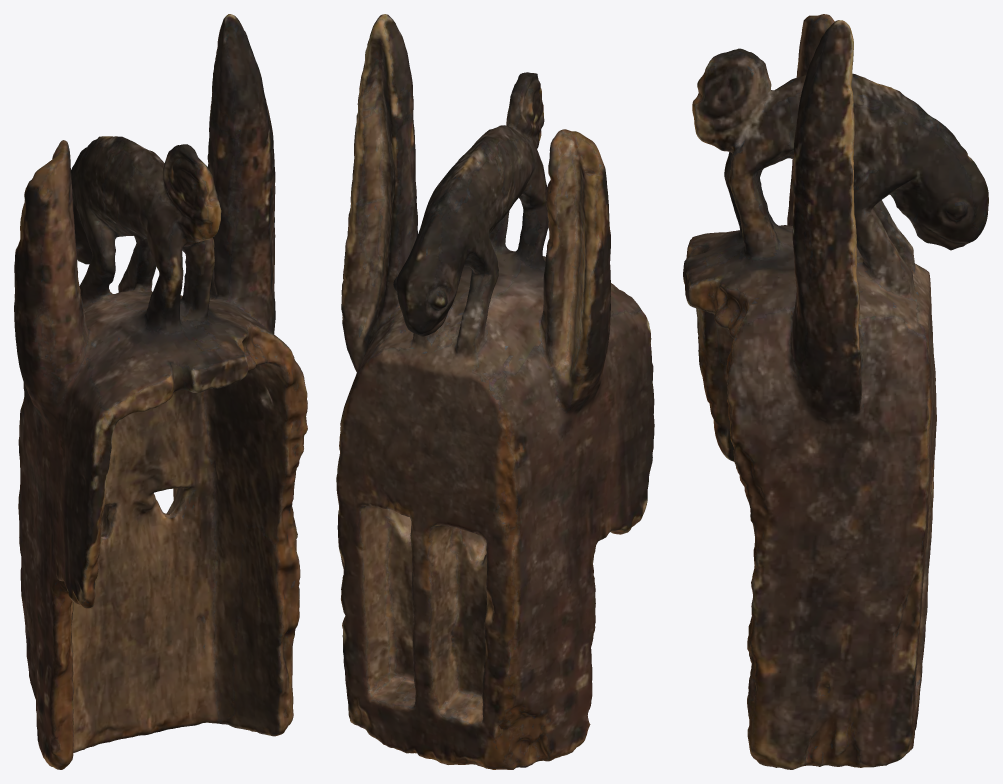
Rendered from preview.glb.
3 renders of one model, left to right at view 1: azimuth 30°, elevation 25°; view 2: azimuth 150°, elevation 25°; view 3: azimuth 270°, elevation 25°, orthographic. The views are drawn at different scales.
Visible parts, largest first — view 1: Object_2; view 2: Object_2; view 3: Object_2.
Part boxes in pixels (box(x1,y1,x2,y2)): Object_2: box(14, 14, 307, 769); Object_2: box(336, 14, 654, 769); Object_2: box(683, 14, 988, 769).
Bounding box in the file's own units: 198 × 528 × 195.
Materials: 1 (1 with a texture image).
